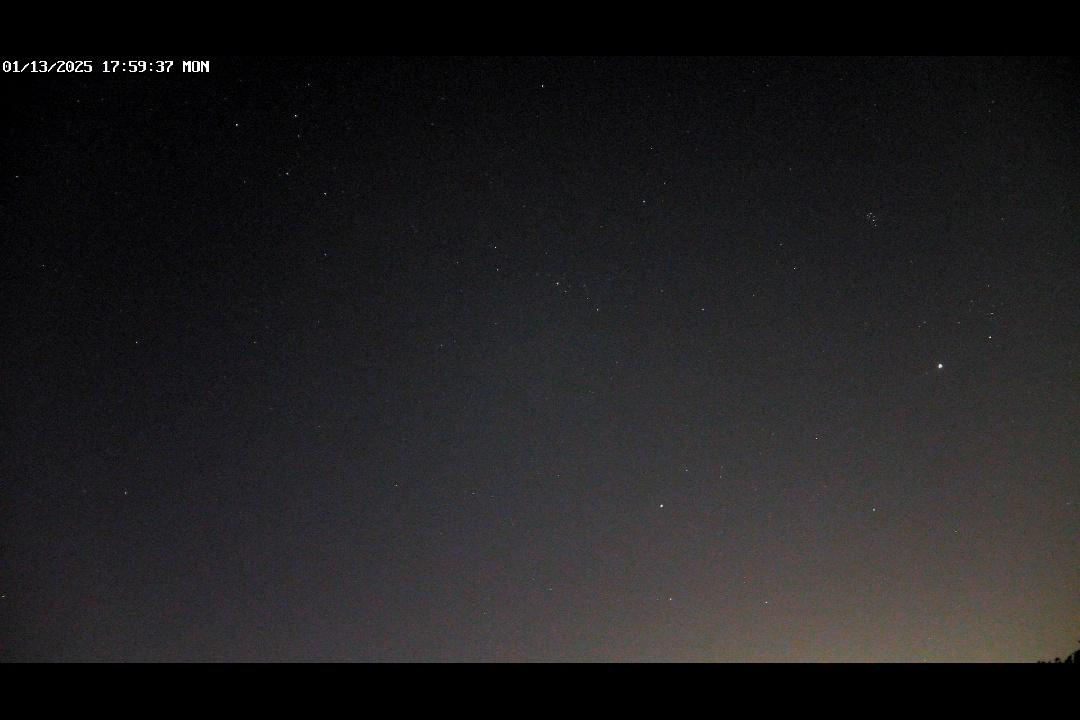Plane: (908, 359, 950, 385)
